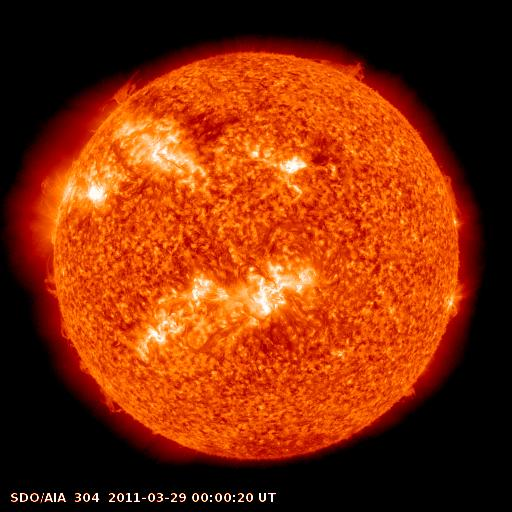prominence: (295, 45, 375, 85), (94, 66, 152, 112), (437, 165, 474, 233), (31, 249, 67, 302), (94, 383, 134, 421), (393, 377, 423, 408), (73, 352, 101, 381), (56, 314, 77, 345)
